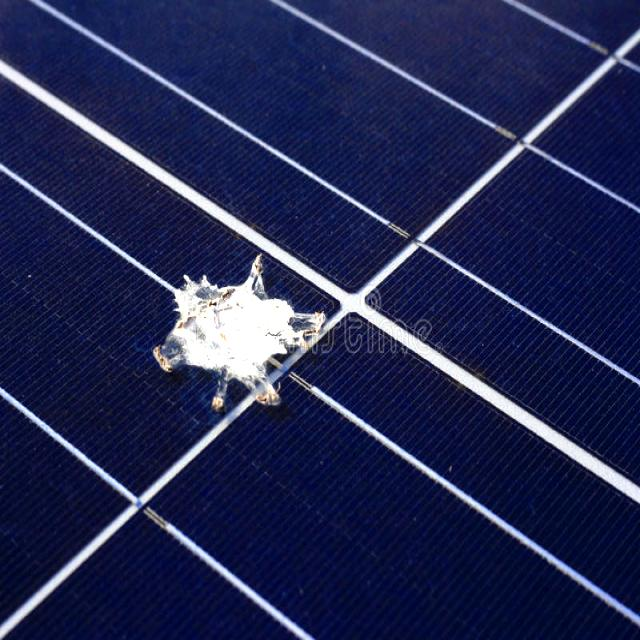bird: (147, 236, 335, 418)
